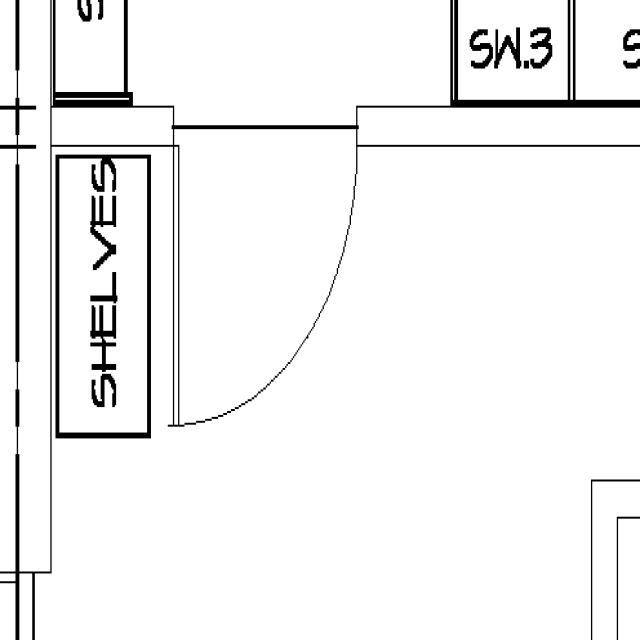Doors: (163, 112, 361, 437)
